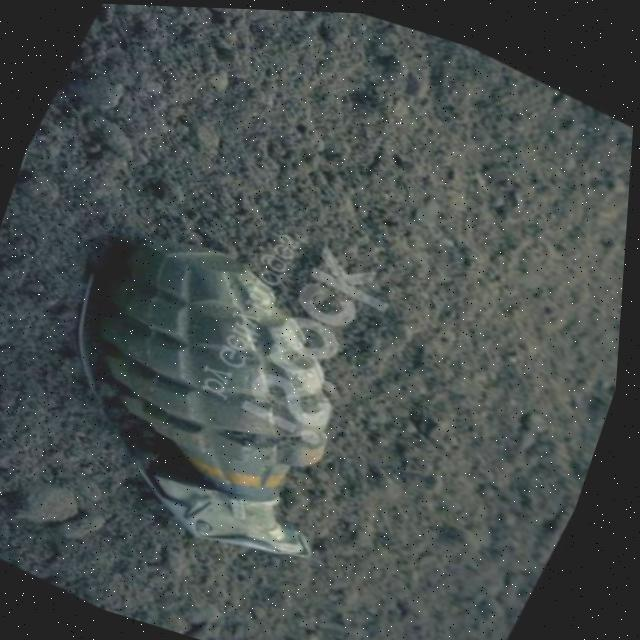grenade: (0, 177, 443, 598)
